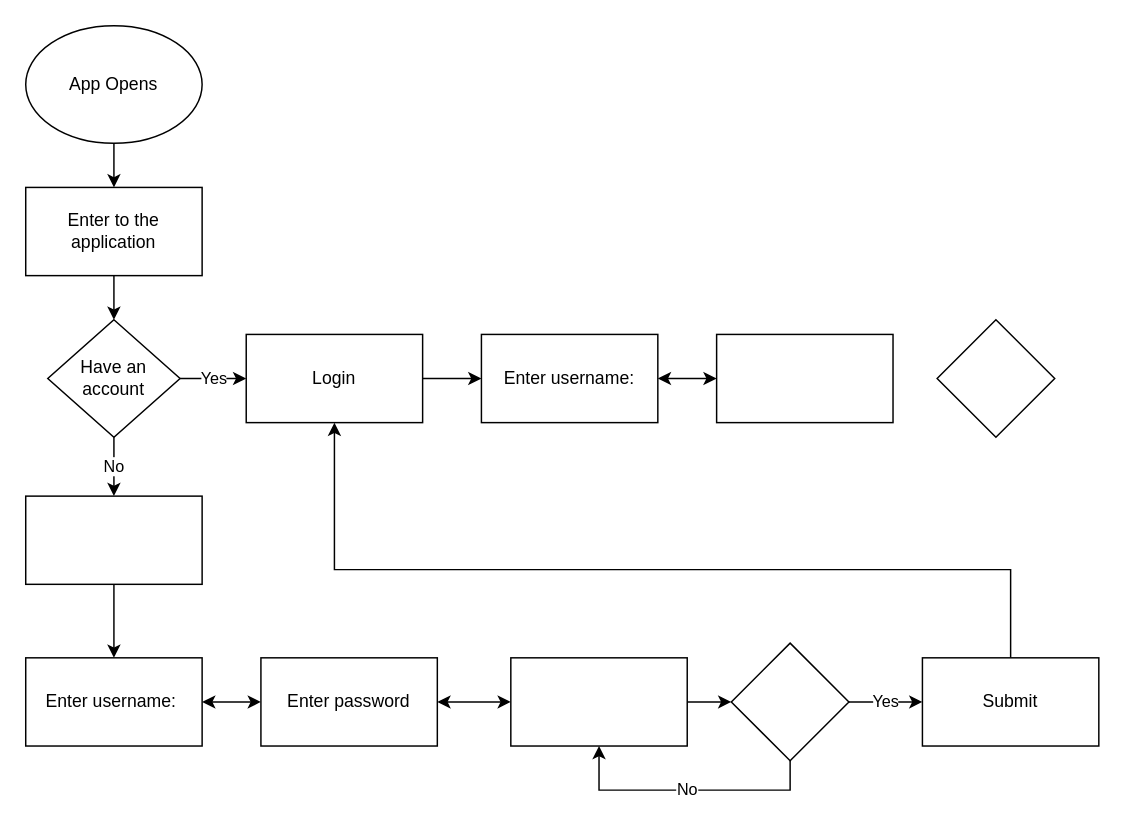
This 1125x828 diagram has some shape labels left out. The shapes that lost their labels are listed below. From the top down, each one's centre as x and y in pixels, then its label:
At (x=804, y=378): "Enter password:".
At (x=113, y=539): "Sign-up".
At (x=598, y=701): "Re-type password:".
At (x=789, y=701): "Same password".
